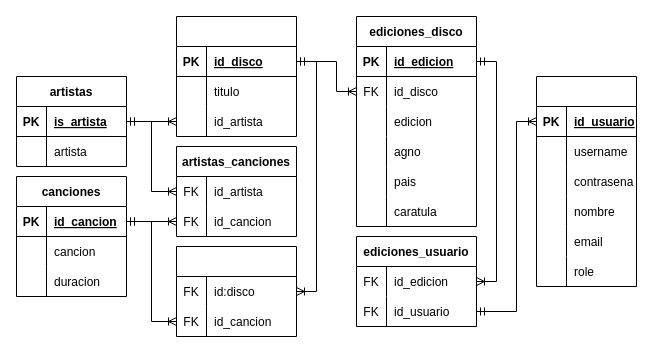
This 653x353 diagram has some shape labels left out. Here are the shapes that lost their labels. From the top down, the box of each, then its label:
(176, 16, 296, 136): discos
(536, 76, 636, 286): usuarios
(176, 246, 296, 336): discos_canciones
